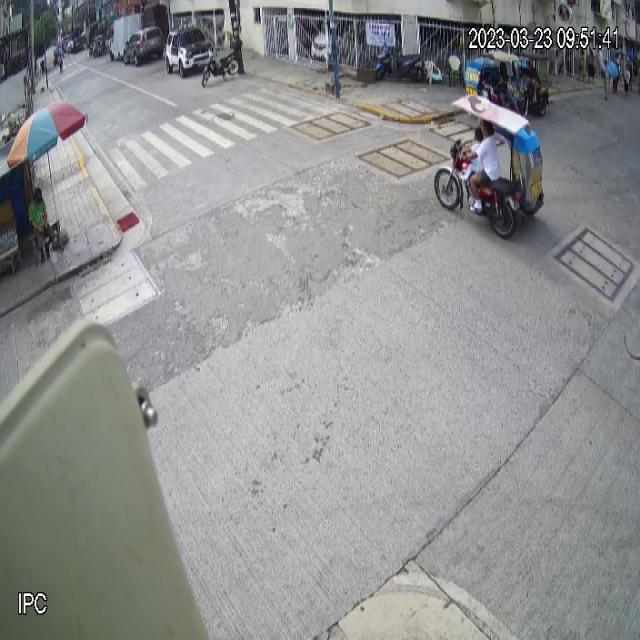Tricycle: (434, 88, 546, 242)
